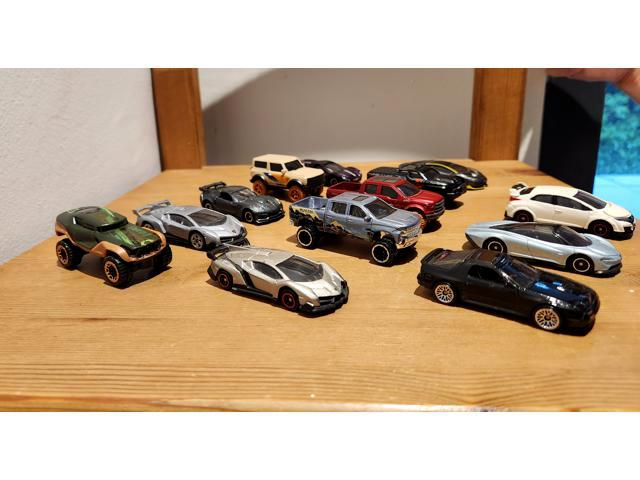toy-car: (416, 248, 601, 333), (207, 237, 350, 318), (289, 192, 422, 265), (55, 206, 173, 288), (466, 218, 623, 276), (504, 183, 637, 241), (326, 175, 447, 229), (132, 200, 248, 250), (367, 166, 467, 207), (199, 181, 287, 226), (250, 154, 325, 201), (400, 160, 489, 190), (302, 159, 363, 187)
